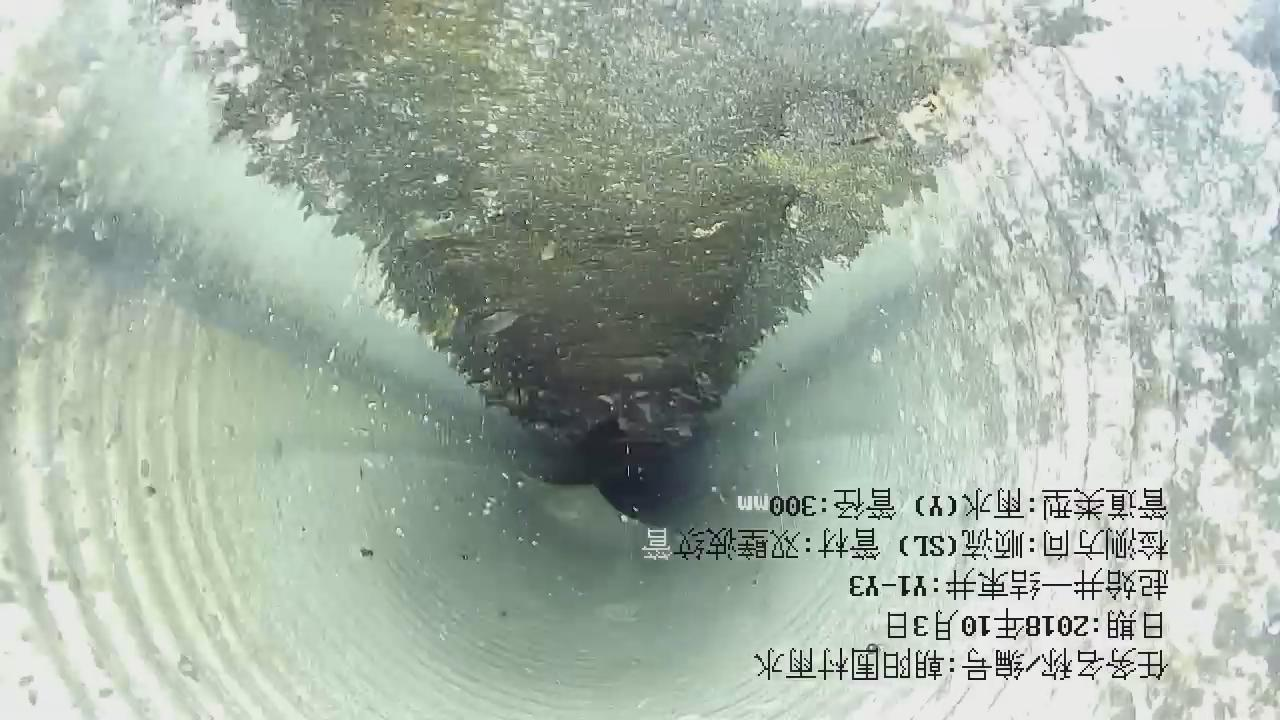BX: (490, 460, 674, 558)
CJ: (211, 1, 1026, 440)
